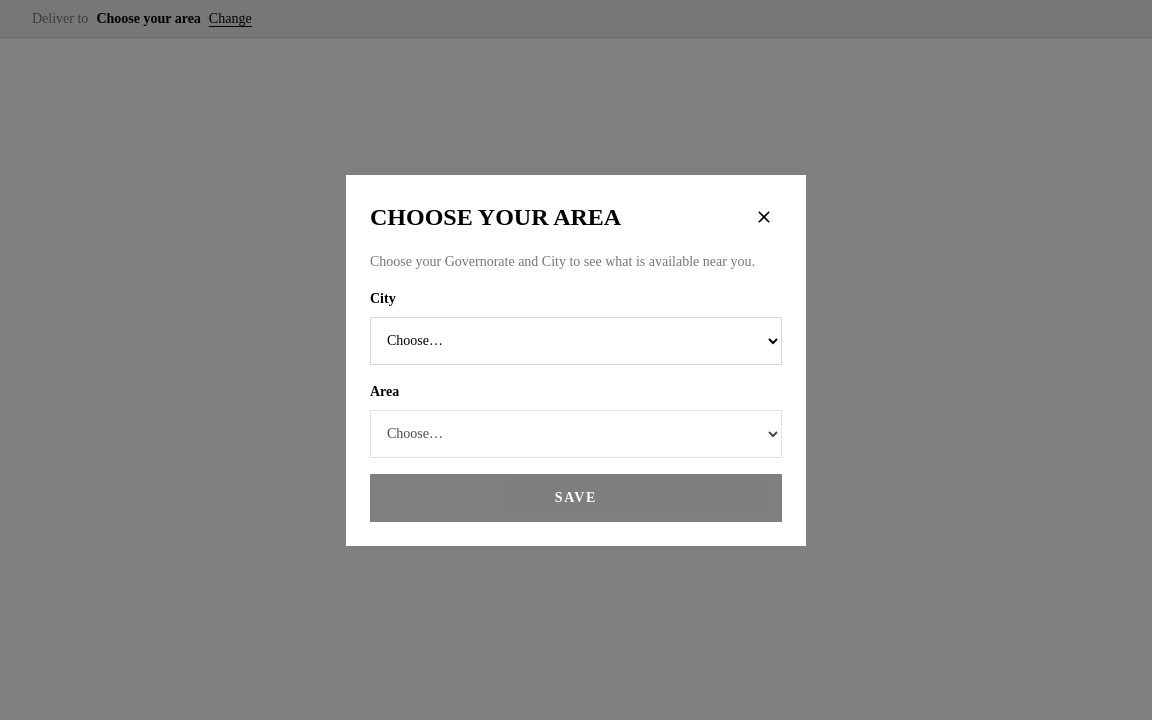
Test: area chooser › opens by itself for a shopper with a session and no area, and saves the chosen area
Expected: the text "Choose your Governorate and City to see what is available near you." is shown, [370,250,782,272]
Select "Cairo" in the dropdown with test id "area-city" at (576,340), box [370,316,782,364]
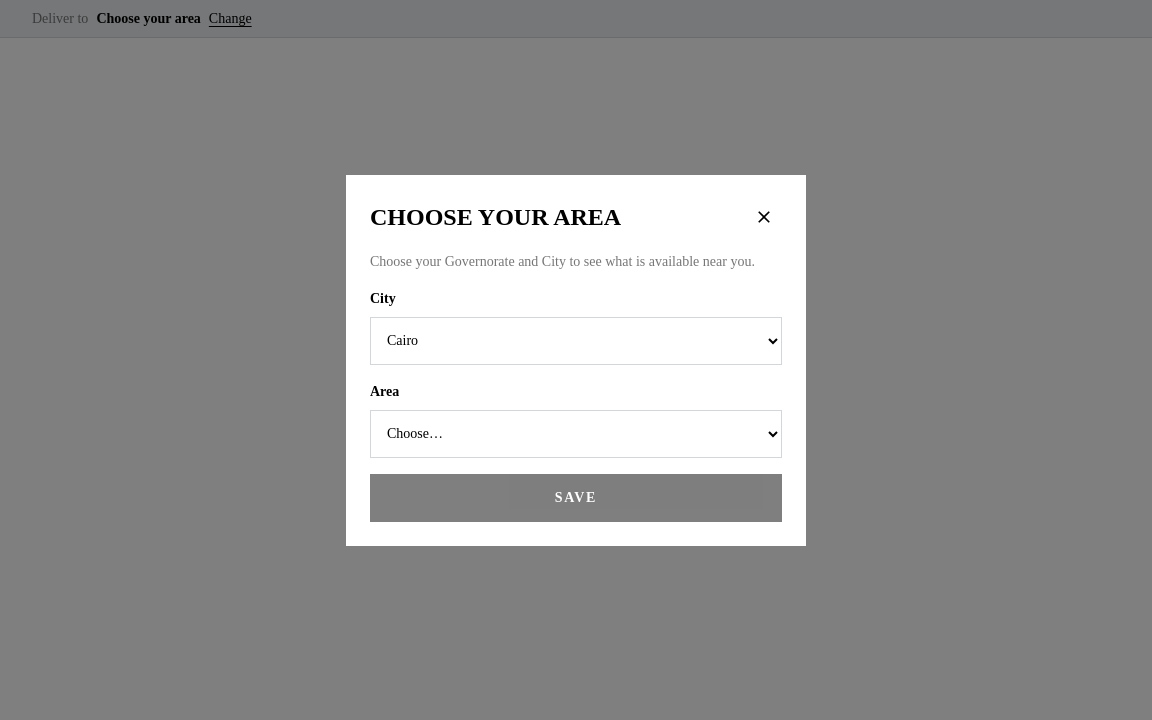
Select "Maadi" in the dropdown with test id "area-area" at (576,434), box [370,410,782,458]
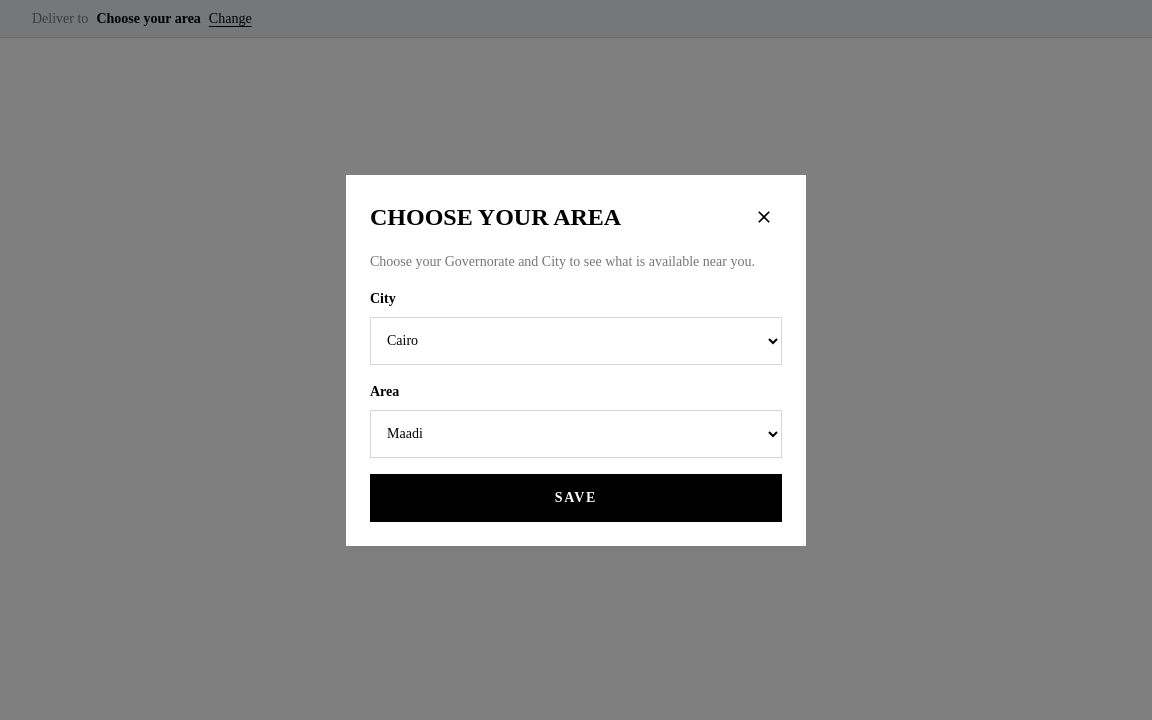
Click the button "Save" at (576,498), box [370,474,782,522]
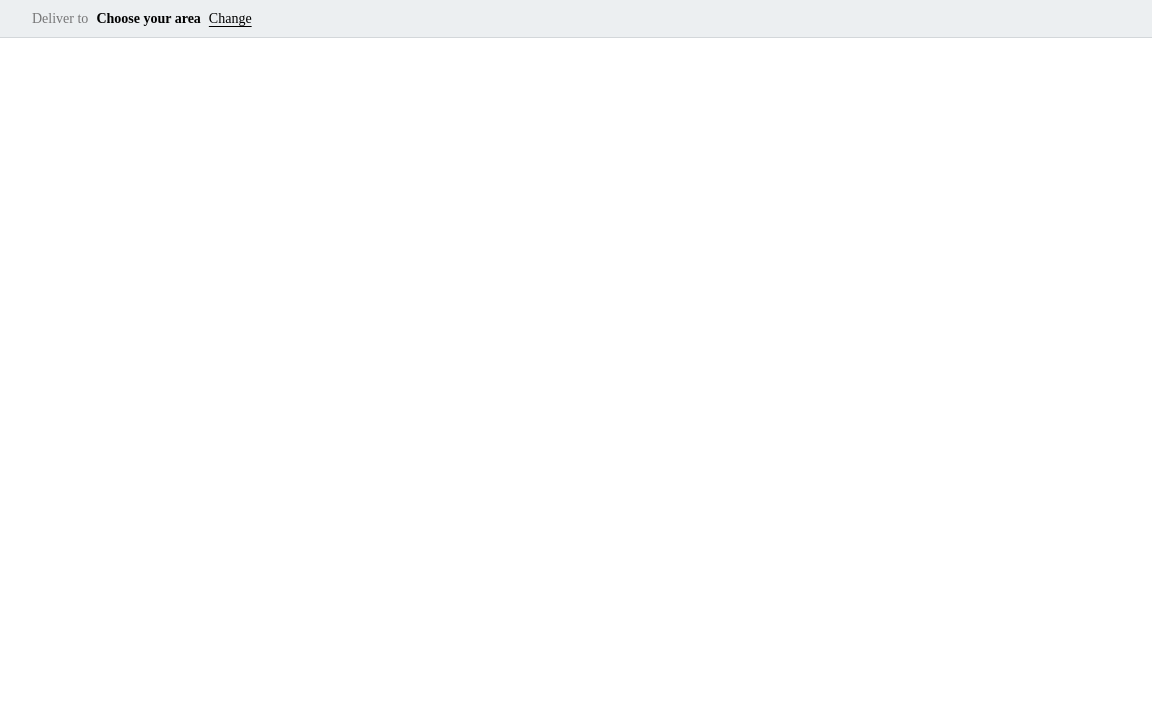
Result: the dialog with test id "area-dialog" is gone
